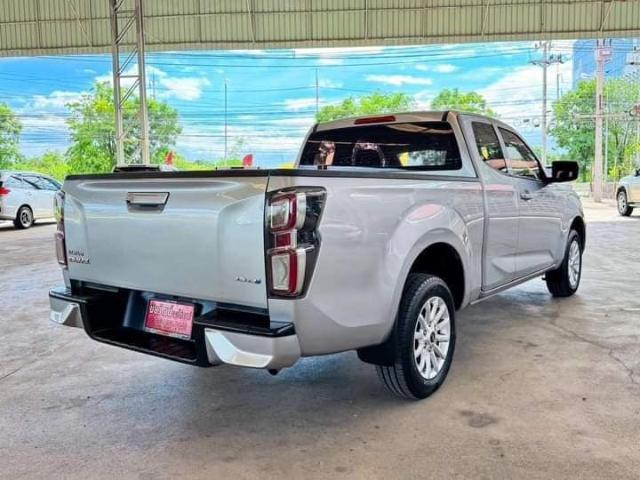pickup-truck: (42, 95, 610, 420)
